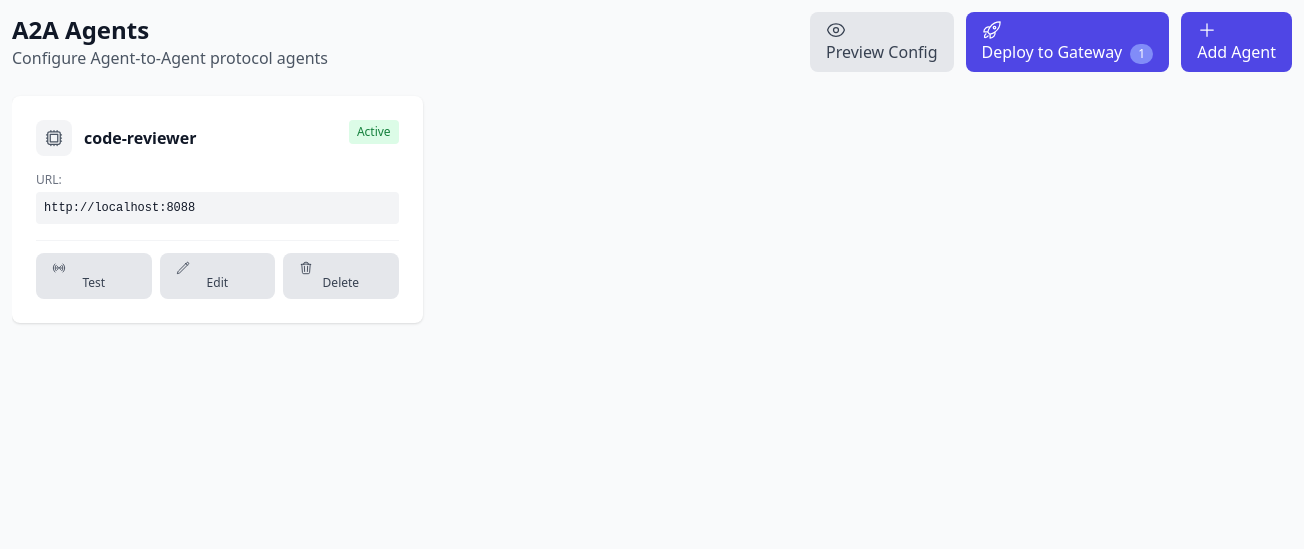
Scenario: Agents › shows Preview Config panel when clicked
The image size is (1304, 549).
Click the button "Preview Config" at (882, 42), box [810, 12, 954, 72]
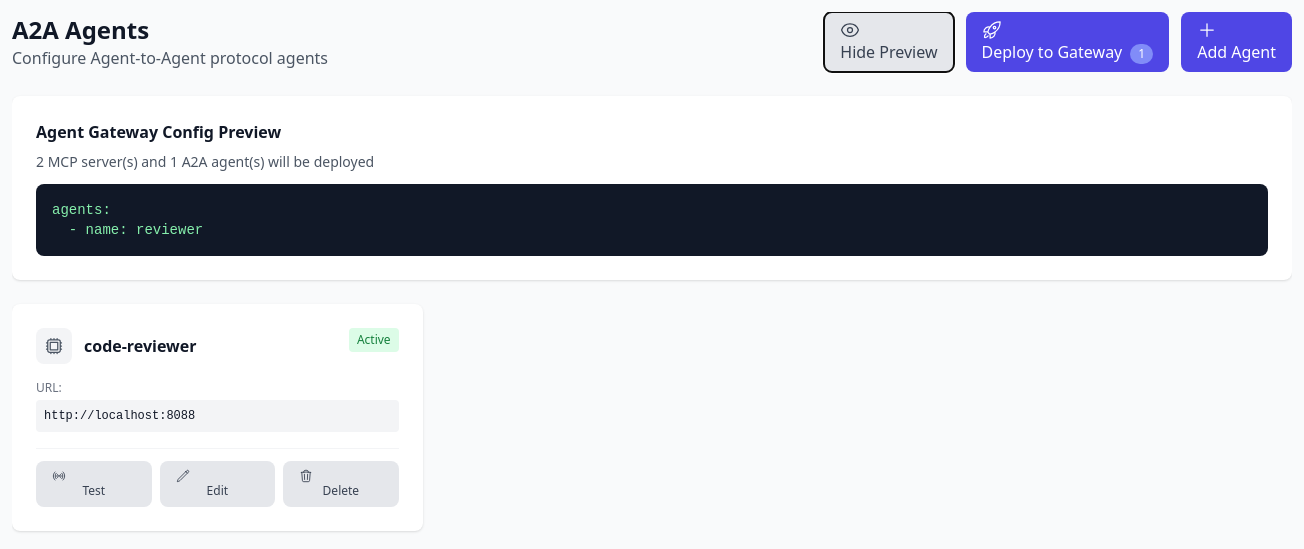
Result: the heading "Agent Gateway Config Preview" is shown at [36, 121, 281, 143]
Result: the text "2 MCP server(s) and 1 A2A agent(s) will be deployed" is shown at [36, 152, 374, 171]
Result: the text "agents: - name: reviewer" is shown at [52, 202, 203, 238]
